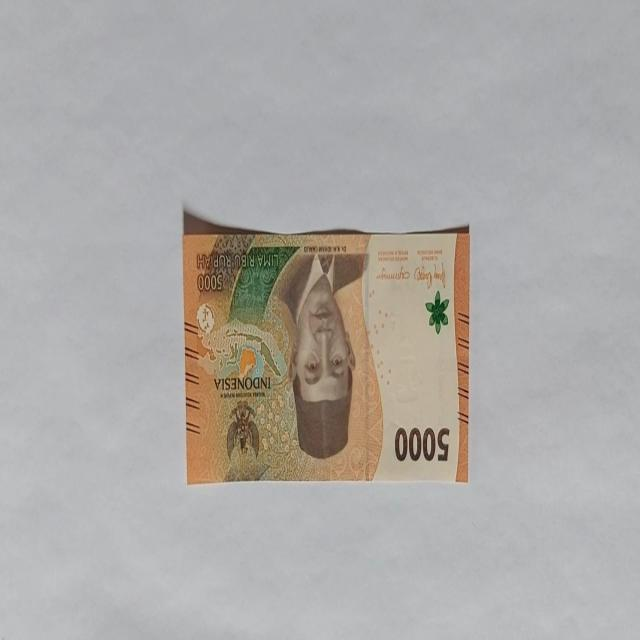lima ribu rupiah: (182, 212, 470, 484), (278, 252, 358, 459)
